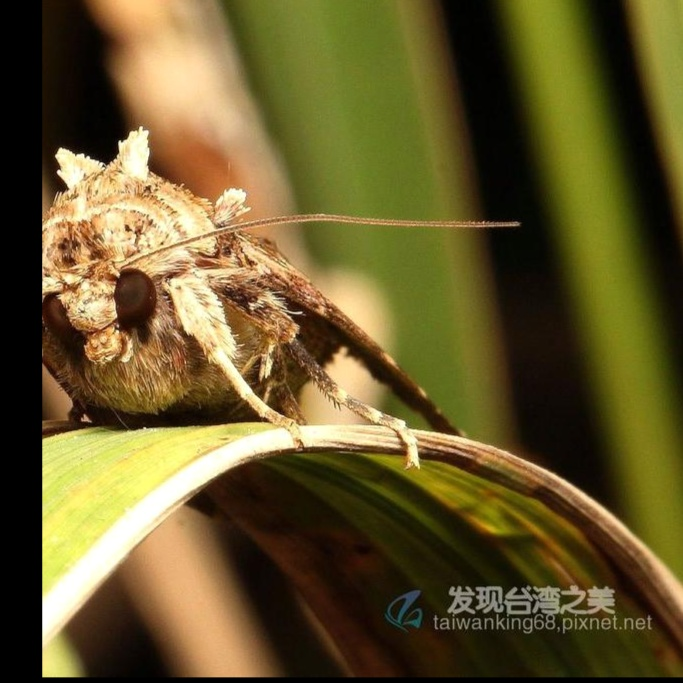Spodoptera litura: (43, 126, 521, 470)
